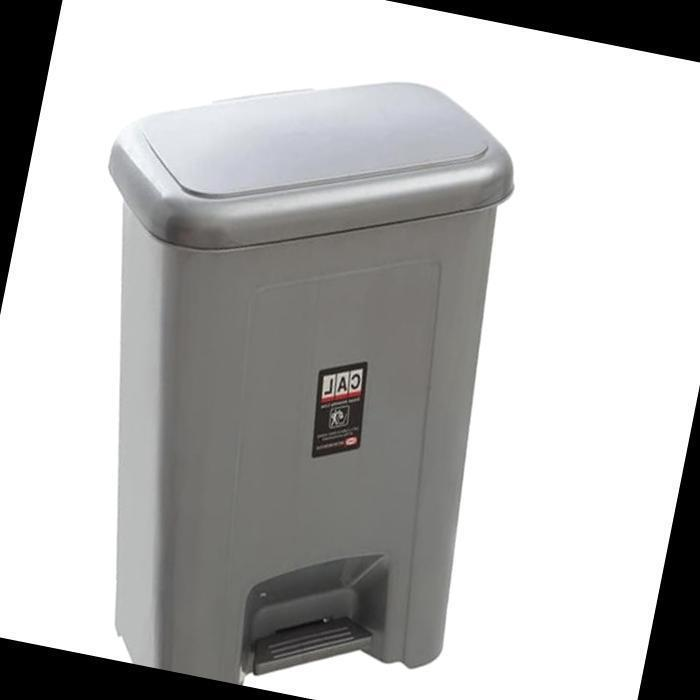Bote de Basura: (12, 25, 556, 700)
